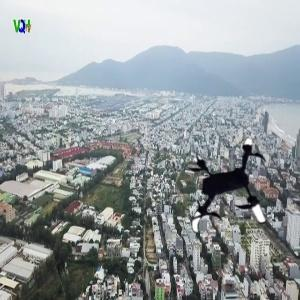drone: (175, 137, 288, 250)
